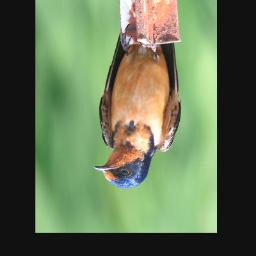Swallow: (94, 22, 182, 189)
